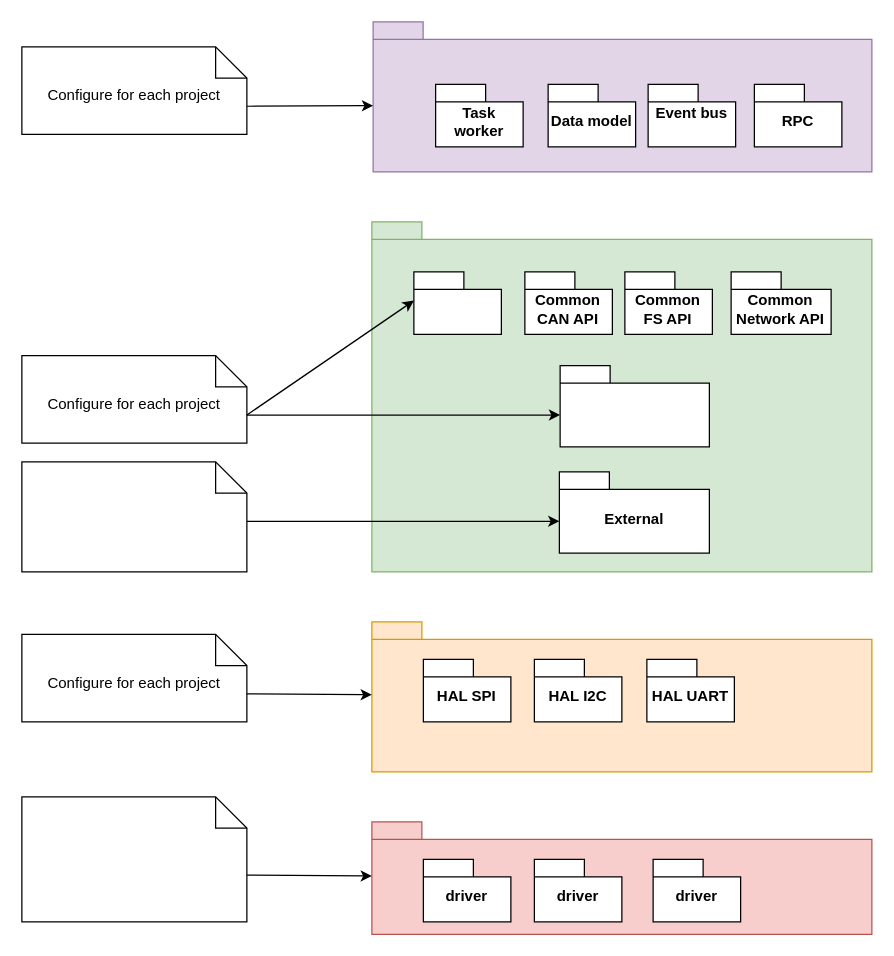
The diagram is 894 pixels wide and 956 high, and some of its shapes have lost their labels. The centre of each missing label's shape, as x and y in pixels:
Change from project to project and hardware form hardware: [134,859]
Common RTOS API: [457,302]
Integrate for every project. maybe integrate by the framework: [134,516]
Internal: [634,405]
